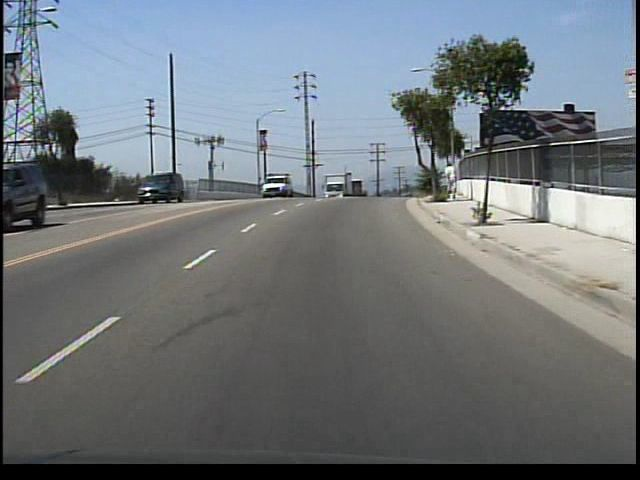person: (442, 159, 461, 203)
